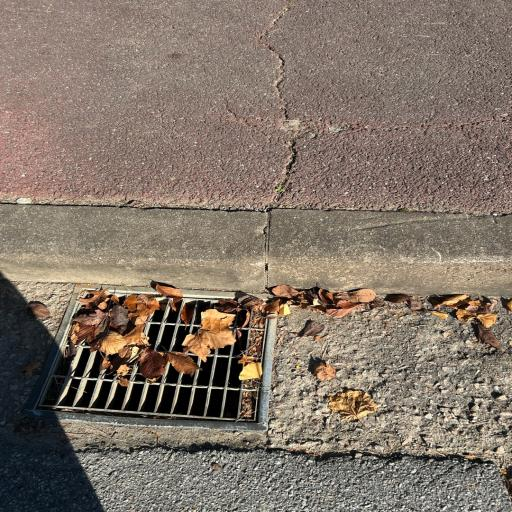debris: (115, 363, 133, 387), (180, 304, 193, 324)
drain: (50, 290, 267, 421)
